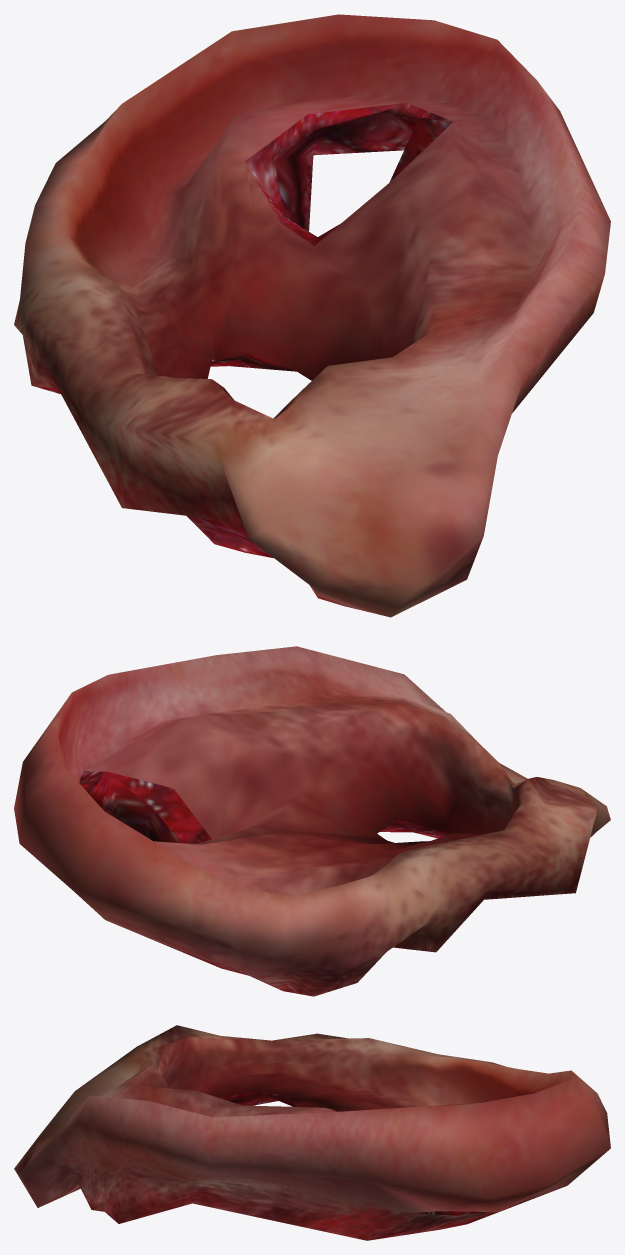
File: Ear_4.fbx
3 views of the same model, one above another, from view 1: azimuth 30°, elevation 25°; view 2: azimuth 150°, elevation 25°; view 3: azimuth 270°, elevation 25° (orthographic). The views are drawn at different scales.
Parts seen in each view (by area): view 1: Ear_4; view 2: Ear_4; view 3: Ear_4.
Part boxes in pixels (left/top/right/bottom): Ear_4: left=14, top=14, right=610, bottom=617; Ear_4: left=14, top=646, right=610, bottom=996; Ear_4: left=14, top=1025, right=610, bottom=1240.
Bounding box in the file's own units: 0.03 × 0.0154 × 0.0384.
